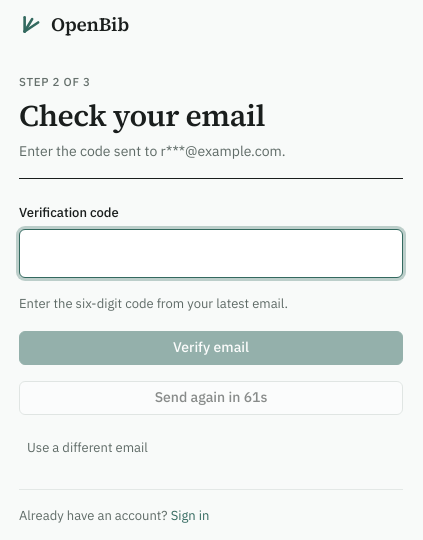
Test: mailbox-first registration › restores verification after a refresh and enforces the resend countdown
Check: the field labelled "Verification code" is shown, box 19,230 -> 403,278
Check: the button "Send again in 61s" is disabled, box 19,381 -> 403,415
Click the button "Use a different email" at [87, 448], box 19,431 -> 156,465
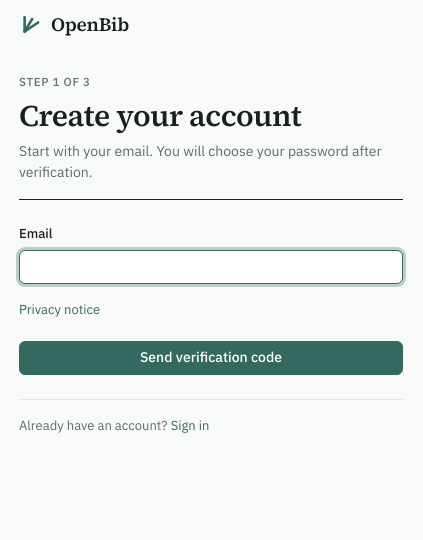
Check: the field labelled "Email" is shown, box 19,250 -> 403,284
